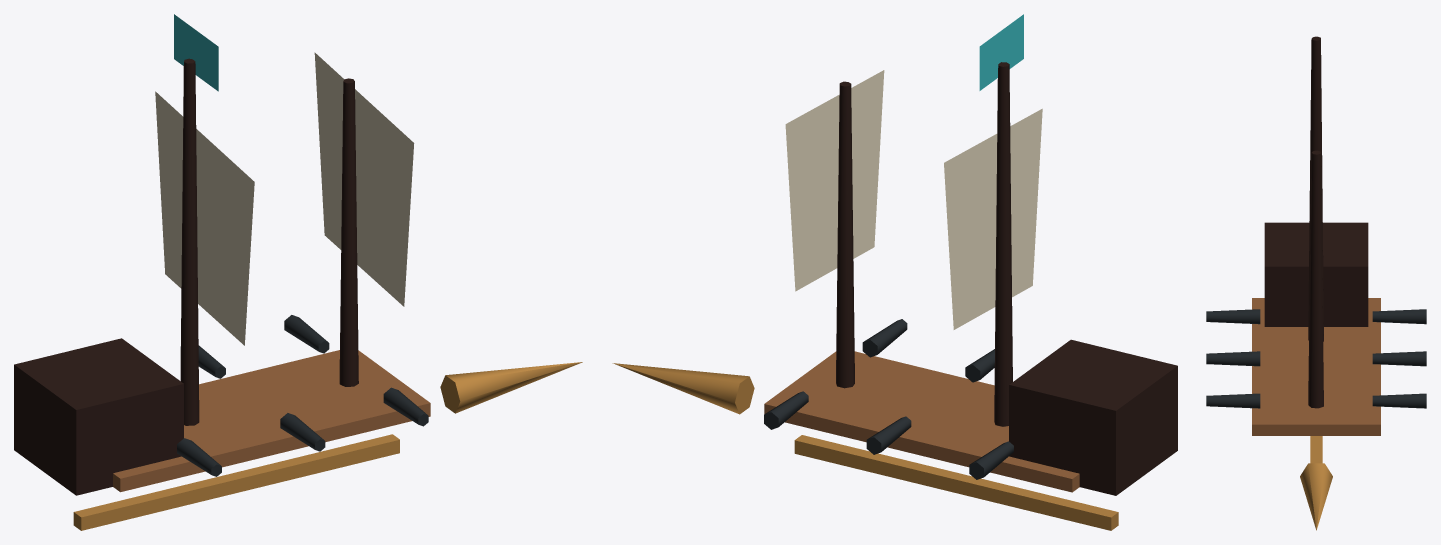
Rendered from sovereign-frigate-lod1.glb.
3 renders of one model, left to right at view 1: azimuth 30°, elevation 25°; view 2: azimuth 150°, elevation 25°; view 3: azimuth 270°, elevation 25°, orthographic. The views are drawn at different scales.
Visible parts, largest first — view 1: stern, deck, sail_2, sail_1, keel, mast_1, mast_2, bow, flag, cannon_port_2, cannon_port_3, cannon_starboard_3 (+1 smaller); view 2: stern, deck, sail_2, sail_1, keel, mast_1, mast_2, bow, flag, cannon_port_3, cannon_starboard_2, cannon_starboard_1 (+1 smaller); view 3: deck, stern, mast_2, mast_1, bow, cannon_port_2, cannon_port_3, cannon_starboard_2, cannon_starboard_3, cannon_starboard_1, cannon_port_1, keel.
Part boxes in pixels (x1,y1,x2,y2): stern: (14, 338, 183, 495); deck: (113, 350, 430, 492); sail_2: (314, 52, 414, 306); sail_1: (155, 91, 254, 345); keel: (73, 434, 399, 530); mast_1: (180, 58, 199, 425); mast_2: (339, 78, 358, 386); bow: (440, 362, 582, 413); flag: (174, 14, 218, 91); cannon_port_2: (280, 413, 325, 451); cannon_port_3: (383, 387, 428, 426); cannon_starboard_3: (284, 315, 329, 353); stern: (1009, 339, 1177, 495); deck: (764, 351, 1079, 492); sail_2: (785, 70, 884, 291); sail_1: (944, 108, 1042, 329); keel: (794, 435, 1118, 530); mast_1: (994, 62, 1012, 426); mast_2: (836, 81, 854, 388); bow: (612, 363, 754, 414); flag: (979, 14, 1023, 90); cannon_port_3: (862, 319, 907, 357); cannon_starboard_2: (866, 416, 911, 454); cannon_starboard_1: (969, 441, 1013, 479); deck: (1252, 298, 1380, 435); stern: (1264, 222, 1368, 326); mast_2: (1308, 150, 1323, 408); mast_1: (1308, 36, 1323, 341); bow: (1300, 463, 1332, 530); cannon_port_2: (1206, 351, 1260, 366); cannon_port_3: (1206, 393, 1260, 408); cannon_starboard_2: (1372, 351, 1426, 366); cannon_starboard_3: (1372, 393, 1426, 408); cannon_starboard_1: (1372, 309, 1426, 324); cannon_port_1: (1206, 309, 1260, 324); keel: (1310, 436, 1322, 463).
Size of the model in its own units: 125 by 104 by 53.
